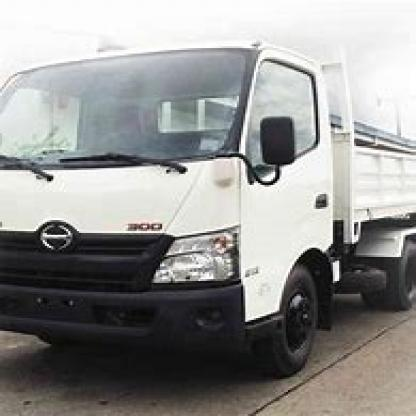dump_truck: (4, 44, 414, 372)
